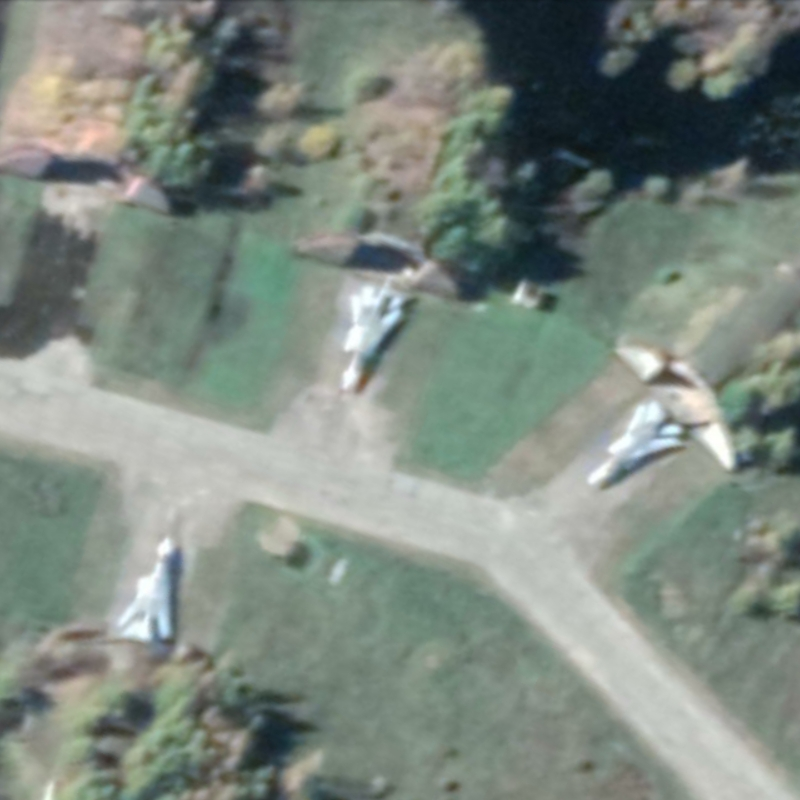A20: (585, 398, 688, 488), (339, 284, 407, 394), (115, 534, 178, 645)
